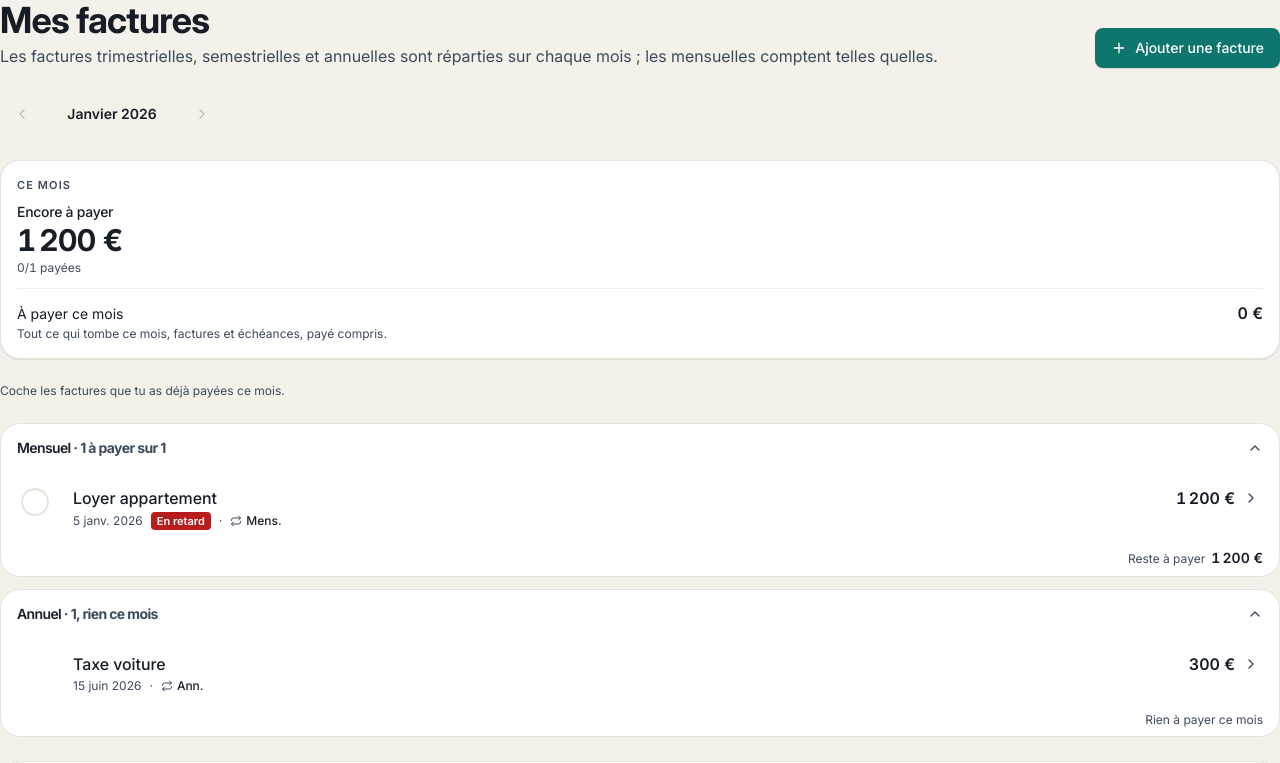
Scenario: <ChargesClient /> — PR-BETA-CLEANUP-2 edit drawer › pre-fills the cadence cluster for a NON-monthly charge (anchor month visible)
Click the button with test id "charges-row-open-a2" at (119, 664), box [65, 646, 1267, 700]
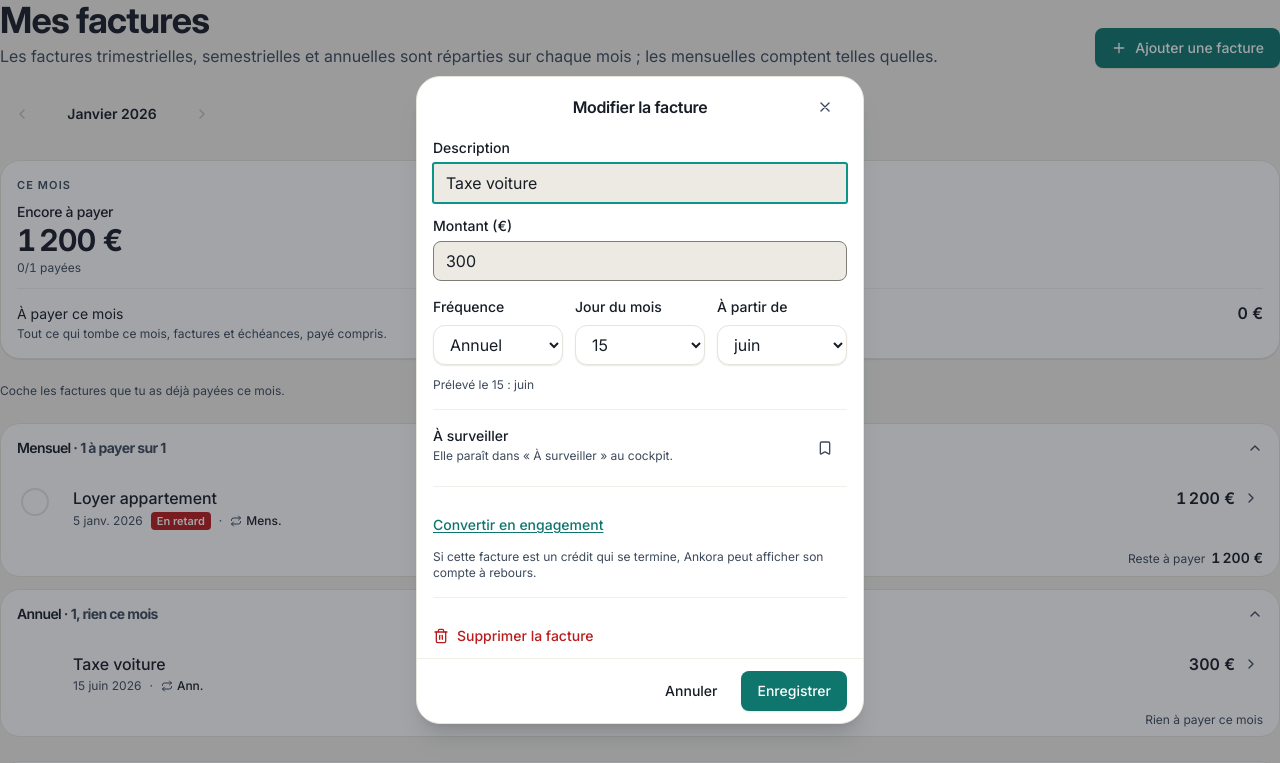
Expected: the dialog with test id "charge-edit-drawer" is shown, [416, 76, 864, 724]
Expected: the dropdown with test id "edit-charge-frequency" shows "Annuel", [433, 325, 563, 365]
Expected: the dropdown with test id "edit-charge-month" shows "juin", [717, 325, 847, 365]
